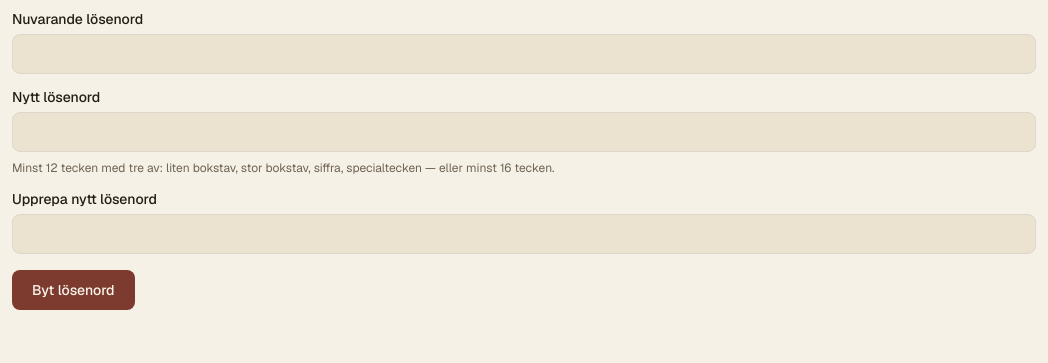
Scenario: ChangePasswordForm — klientvalidering speglar serverns policy › "Kort1!"
The image size is (1048, 363).
Type "gammalt" into the password field labelled "Nuvarande lösenord" at (524, 54), box 12,34 -> 1036,74
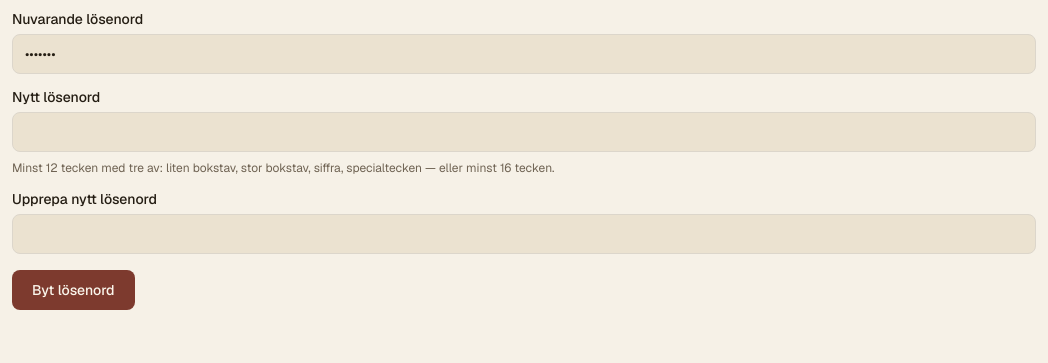
Type "Kort1!" into the password field labelled "Nytt lösenord" at (524, 132), box 12,112 -> 1036,152
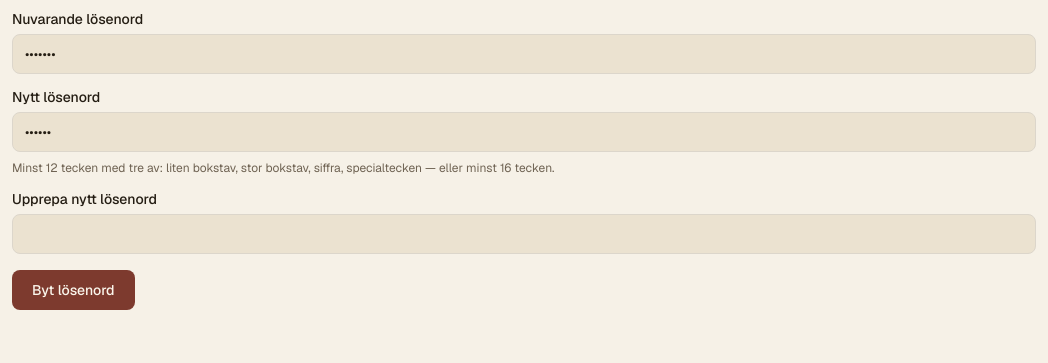
Type "Kort1!" into the password field labelled "Upprepa nytt lösenord" at (524, 234), box 12,214 -> 1036,254
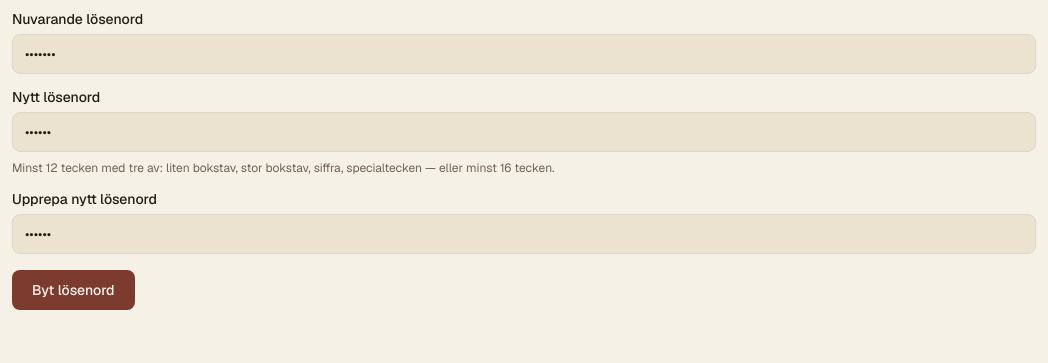
Click the button "Byt lösenord" at (73, 290), box 12,270 -> 135,310
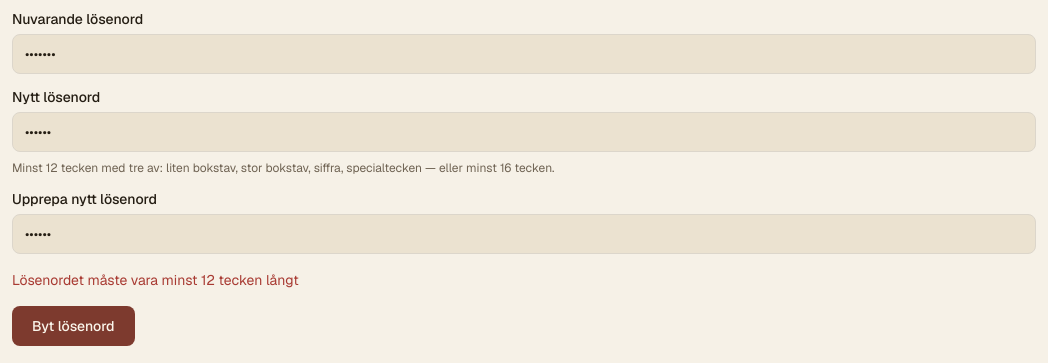
Result: the message reads "Lösenordet måste vara minst 12 tecken långt" at 12,271 -> 299,289
